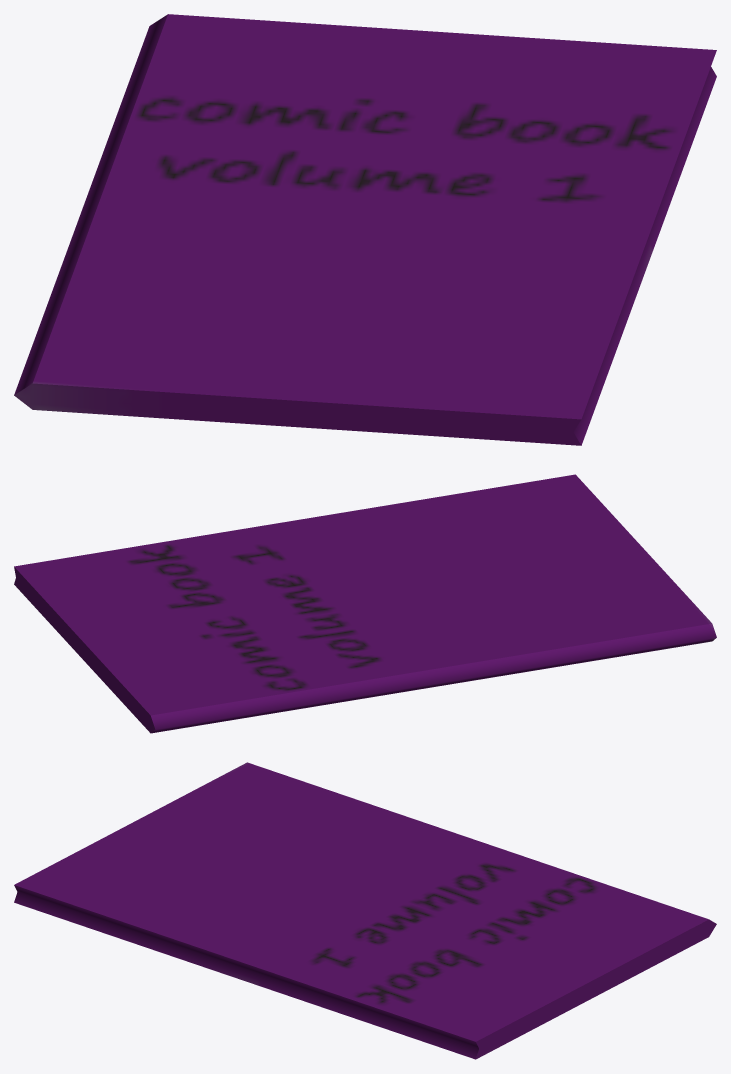
Rendered from comic exp resend.fbx.
The picture shows the model from 3 angles, top to bottom: view 1: azimuth 30°, elevation 25°; view 2: azimuth 150°, elevation 25°; view 3: azimuth 270°, elevation 25°; orthographic projection. The views are drawn at different scales.
Parts seen in each view (by area): view 1: Box051; view 2: Box051; view 3: Box051.
Boxes of the visible parts, <box> form: Box051: <box>14,14,716,445</box>; Box051: <box>14,474,716,733</box>; Box051: <box>14,762,716,1059</box>.
Size of the model in its own units: 8.92 by 0.2592 by 9.34.
